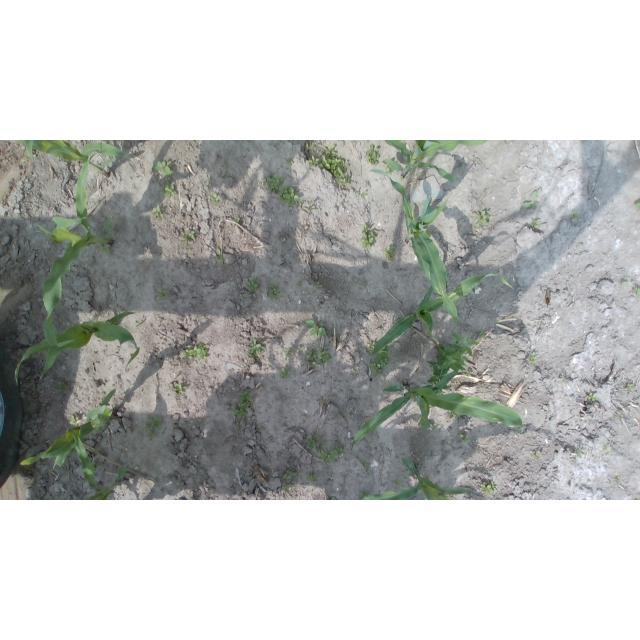Maize: (38, 150, 114, 380), (366, 272, 514, 372), (369, 166, 459, 329), (351, 371, 524, 453), (14, 312, 141, 385), (20, 389, 114, 473), (356, 456, 473, 500), (384, 140, 489, 184), (14, 140, 130, 178), (72, 430, 128, 500)
Weeds: (426, 332, 478, 395), (319, 146, 351, 187), (368, 341, 390, 377), (232, 392, 254, 419), (141, 415, 163, 441), (315, 445, 345, 464), (304, 348, 332, 367), (183, 343, 210, 361), (278, 186, 298, 207), (305, 320, 327, 339), (360, 224, 376, 249), (262, 175, 283, 194), (153, 161, 173, 180), (523, 190, 540, 211), (247, 339, 265, 358), (305, 435, 327, 449), (366, 145, 379, 166), (476, 210, 491, 228), (246, 278, 261, 295), (481, 481, 498, 495), (161, 182, 176, 196), (283, 469, 302, 480), (268, 284, 281, 300), (181, 231, 195, 245), (173, 384, 187, 397), (384, 246, 396, 261), (155, 289, 171, 300), (152, 205, 164, 218), (100, 244, 113, 256), (528, 352, 540, 365), (215, 249, 224, 264), (308, 154, 319, 166), (305, 141, 317, 152), (305, 200, 316, 212), (90, 459, 101, 470), (69, 414, 79, 426), (280, 369, 290, 380), (531, 219, 541, 230), (58, 381, 69, 391), (211, 192, 220, 204), (307, 472, 317, 482), (282, 484, 293, 493), (460, 435, 471, 444), (577, 448, 586, 459), (359, 491, 371, 499), (283, 348, 293, 357), (394, 479, 403, 489), (448, 409, 456, 420), (532, 451, 543, 459), (362, 460, 371, 469), (478, 330, 486, 340), (588, 393, 597, 401), (315, 282, 323, 291), (358, 278, 366, 286), (603, 445, 611, 453), (633, 288, 640, 297), (571, 212, 580, 219), (615, 411, 623, 418), (627, 384, 634, 392), (386, 166, 393, 174), (362, 191, 369, 198), (297, 200, 304, 207), (85, 261, 93, 267), (635, 200, 640, 209), (51, 239, 58, 245), (235, 423, 241, 430), (287, 159, 293, 166), (334, 413, 340, 419), (297, 281, 303, 287), (444, 494, 451, 499), (413, 342, 420, 347), (621, 282, 628, 287), (234, 218, 240, 223), (21, 159, 28, 163), (410, 471, 415, 476), (353, 369, 358, 374), (330, 497, 338, 500), (298, 346, 303, 350), (259, 425, 264, 429), (2, 196, 6, 200), (382, 161, 386, 164)
